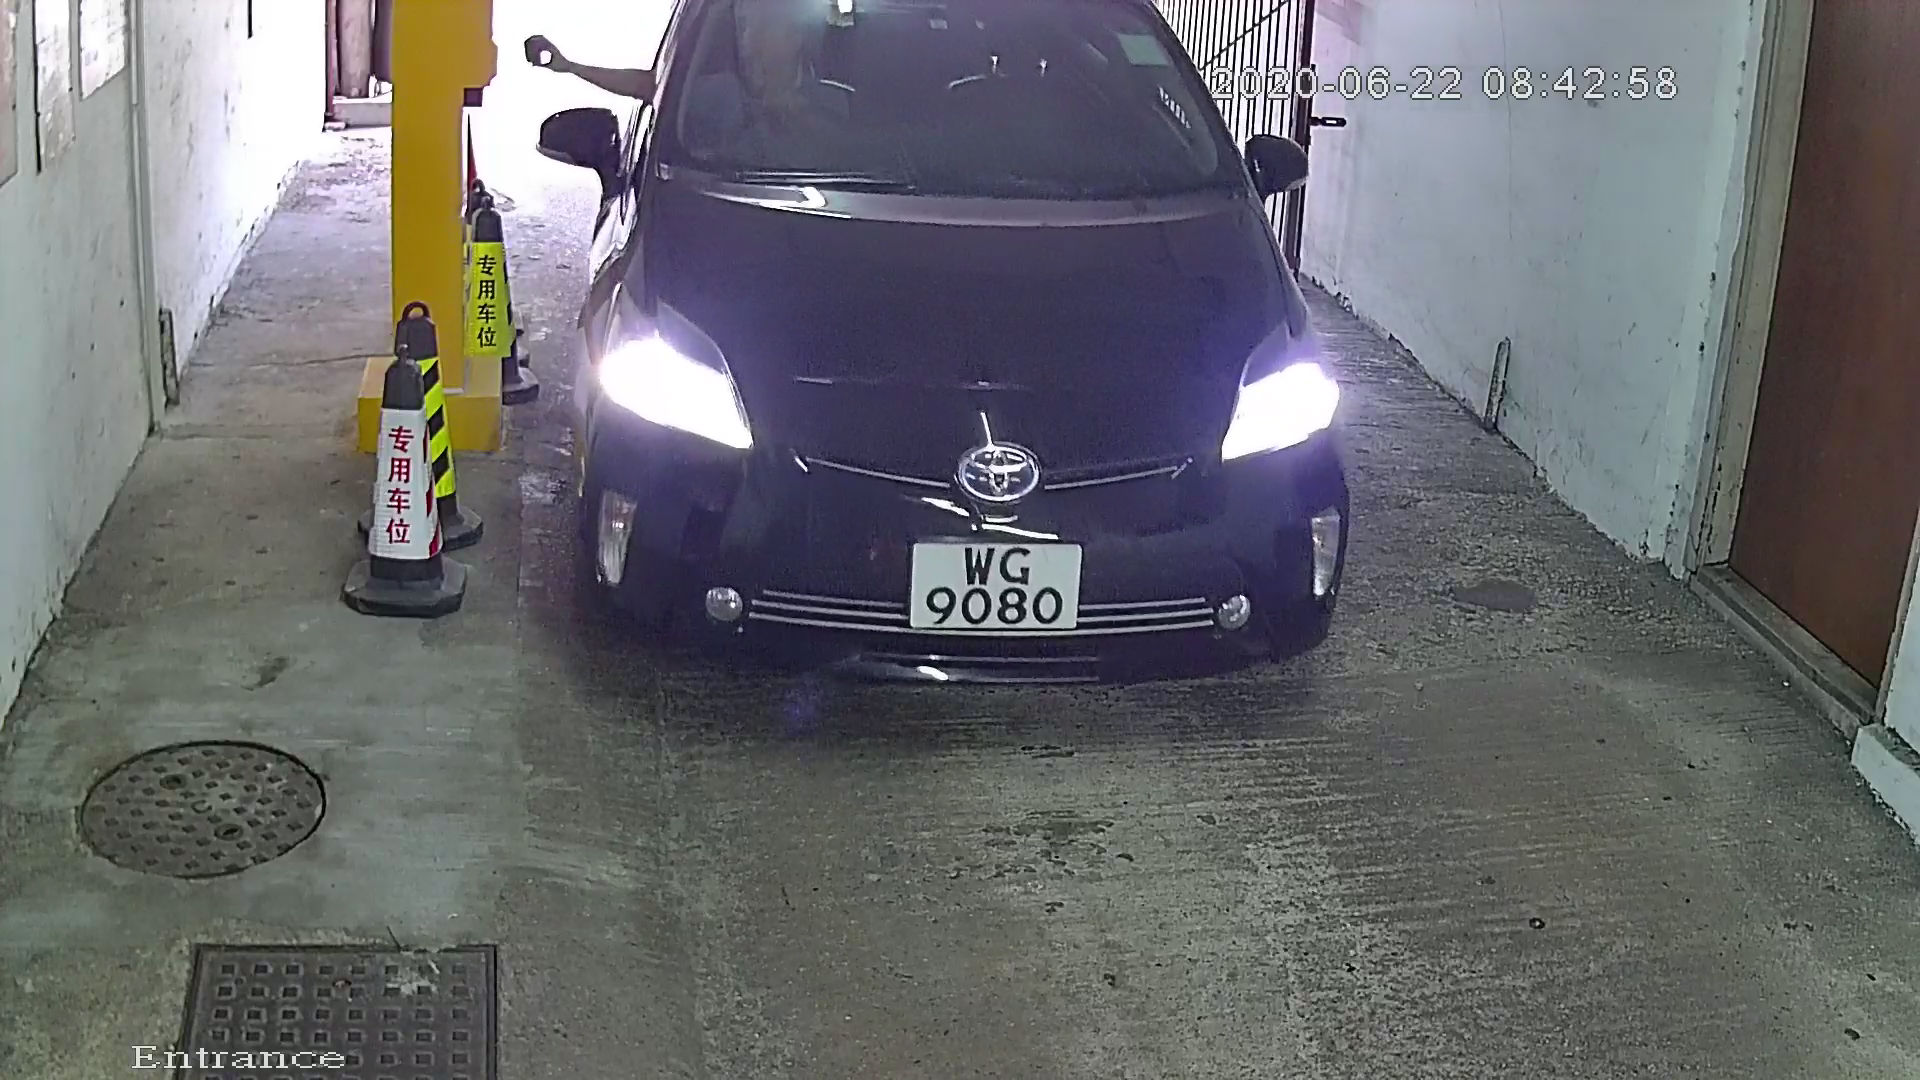privatecar: (502, 3, 1407, 727)
